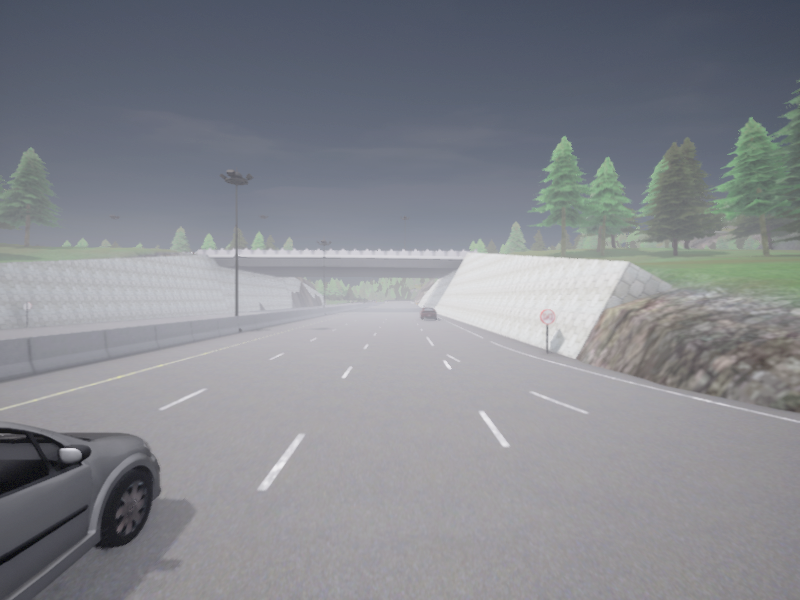vehicle: (0, 421, 160, 599), (419, 307, 436, 319)
